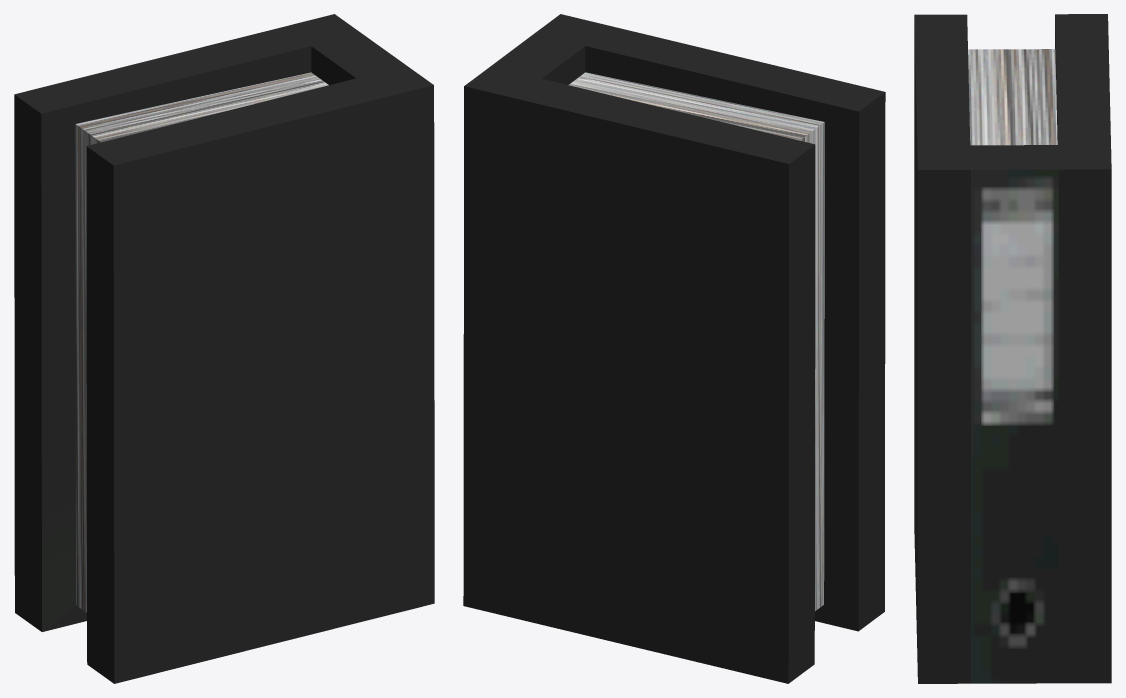
Rendered from object_26_lev1.glb.
The picture shows the model from 3 angles, left to right: view 1: azimuth 30°, elevation 25°; view 2: azimuth 150°, elevation 25°; view 3: azimuth 270°, elevation 25°; orthographic projection.
Visible parts, largest first — view 1: object_26_lev1; view 2: object_26_lev1; view 3: object_26_lev1.
Part boxes in pixels (x1=…): object_26_lev1: x1=14, y1=14, x2=434, y2=683; object_26_lev1: x1=463, y1=14, x2=885, y2=683; object_26_lev1: x1=914, y1=14, x2=1111, y2=683.
Size of the model in its own units: 0.2209 by 0.3376 by 0.1175.
1 material, 1 textured.
